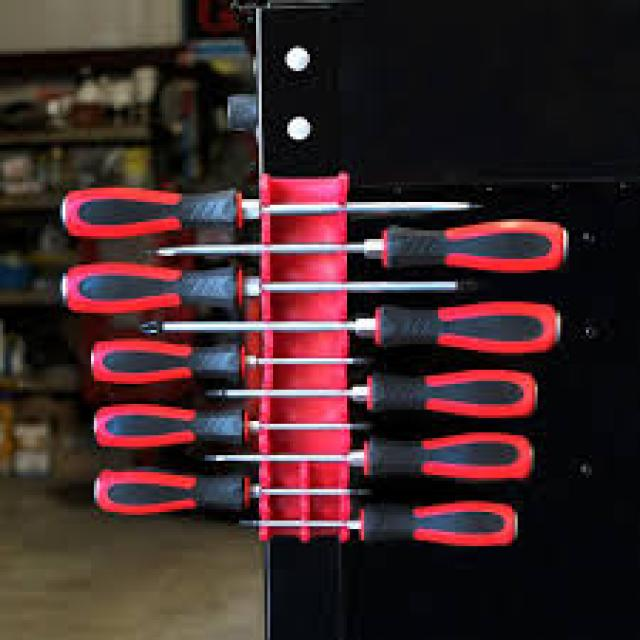screw driver: (53, 167, 483, 237), (127, 308, 567, 358), (216, 507, 548, 559), (95, 402, 372, 460)
